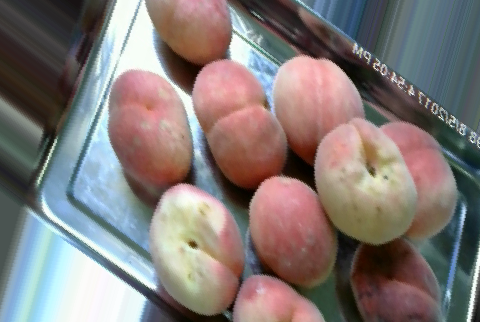Peach: (313, 116, 418, 244), (148, 182, 242, 315), (191, 60, 289, 183), (109, 66, 193, 186), (270, 56, 361, 164), (250, 174, 336, 287), (349, 241, 439, 322), (146, 1, 232, 60)
